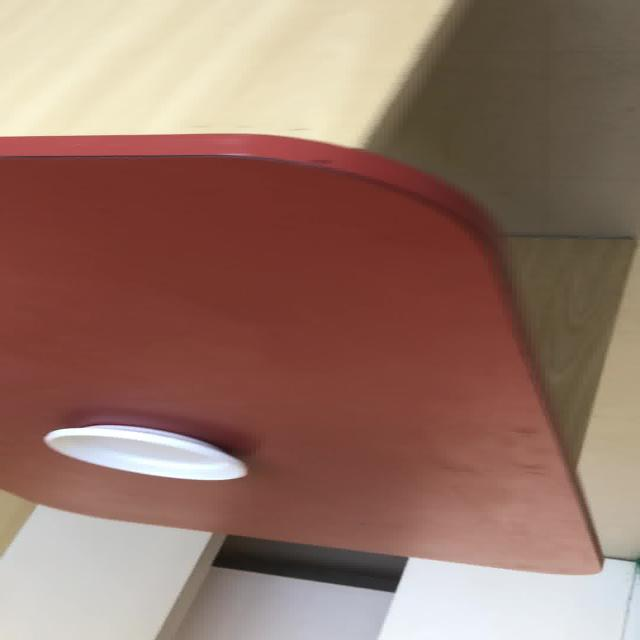plate: (0, 132, 603, 574), (41, 423, 248, 481)
